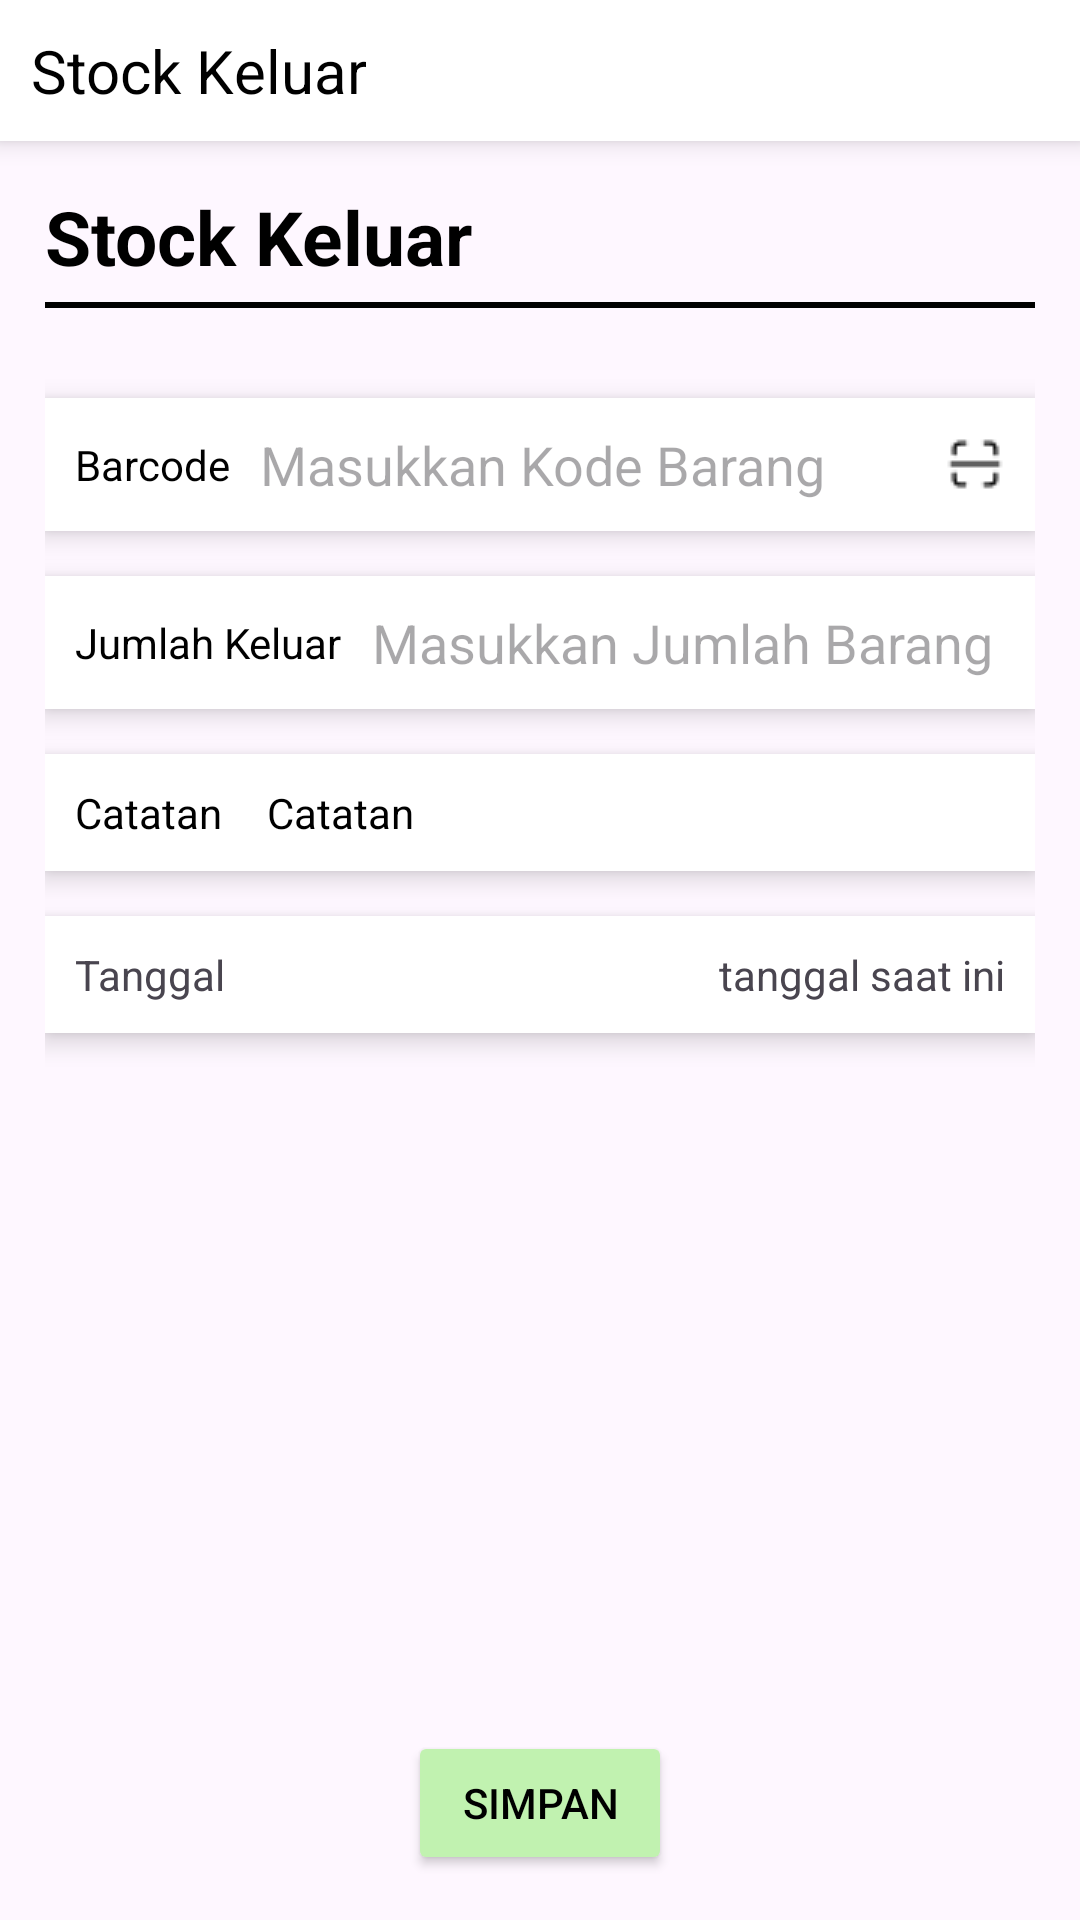

Named icons in this screenshot (1080x1920) and their bounding boxes, (x1, y1, x2, y2):
scan qr: (949, 439, 1001, 489)
